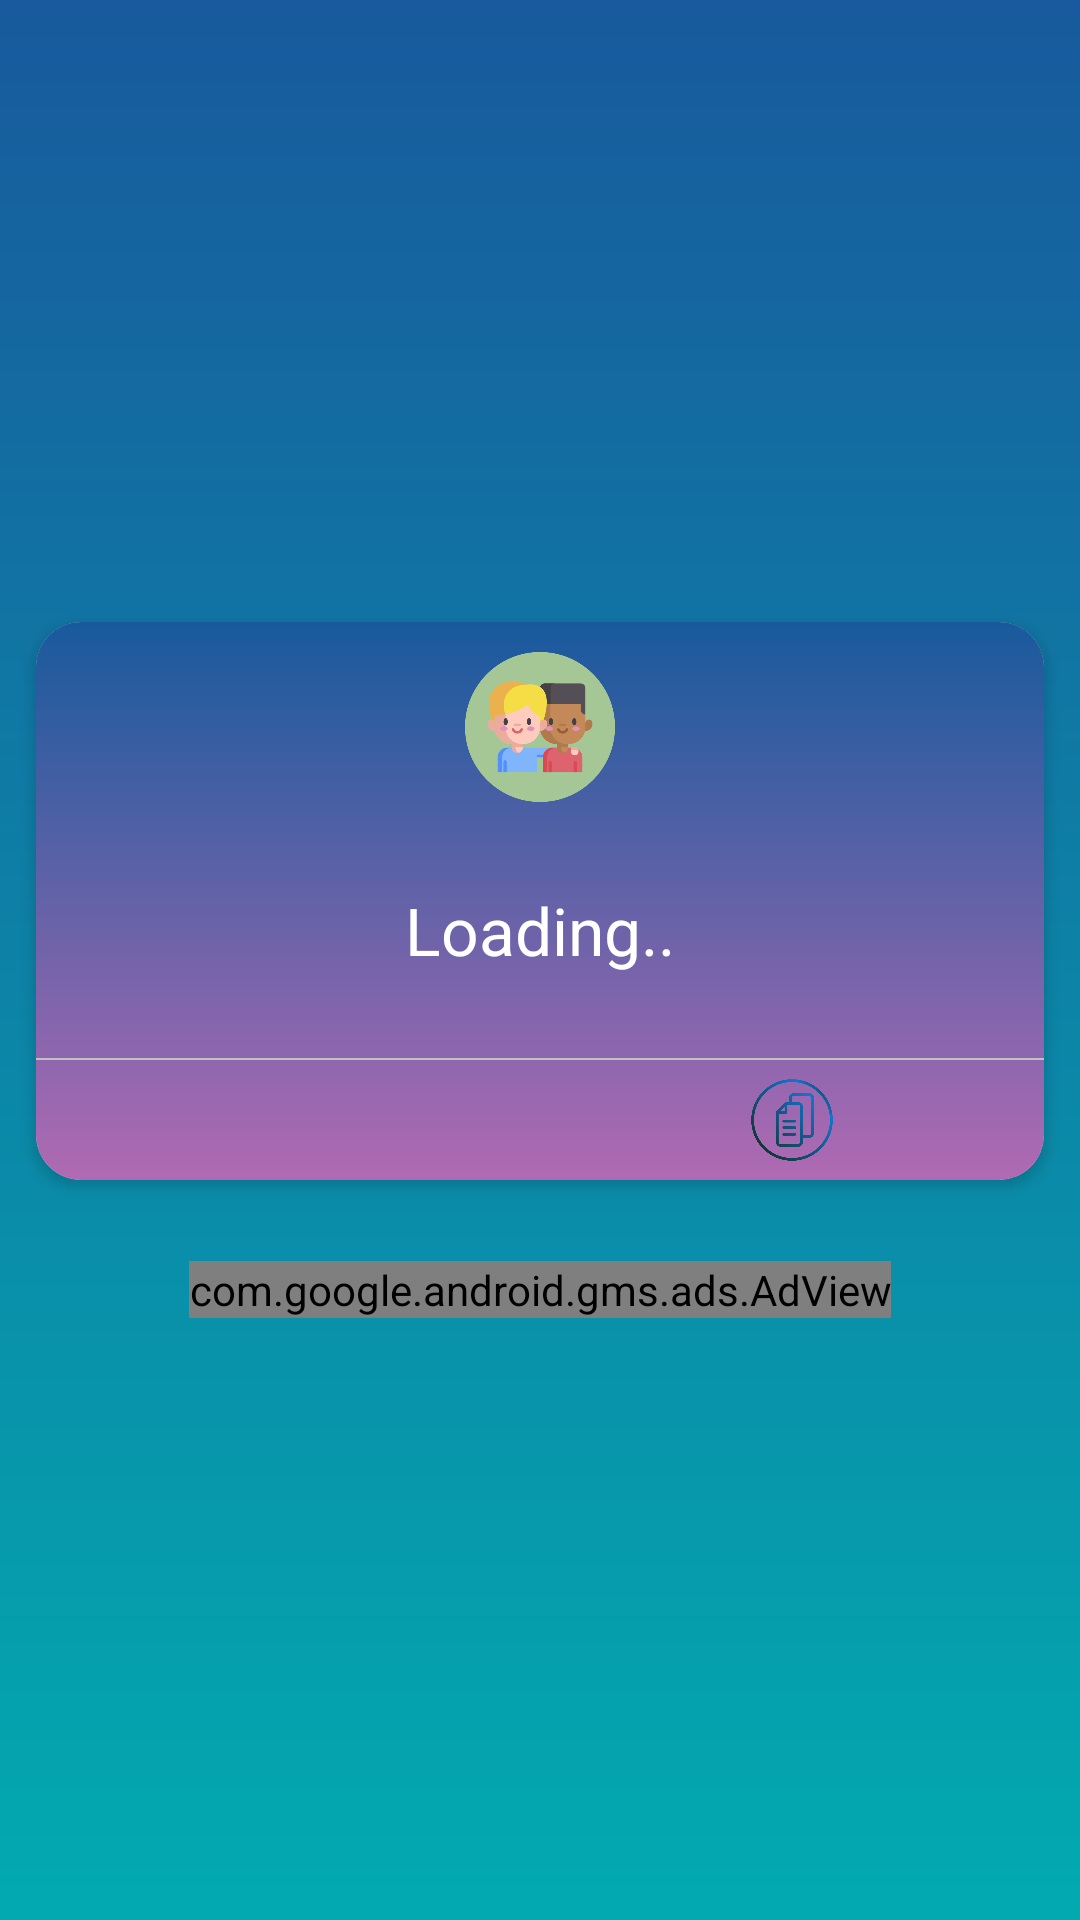

Named icons in this screenshot (1080px x 1920px) and their centers, [x,y]:
clipboard: [792,1120]
friendship: [540,727]
